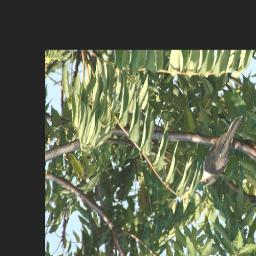Cuckoo: (196, 113, 247, 187)
